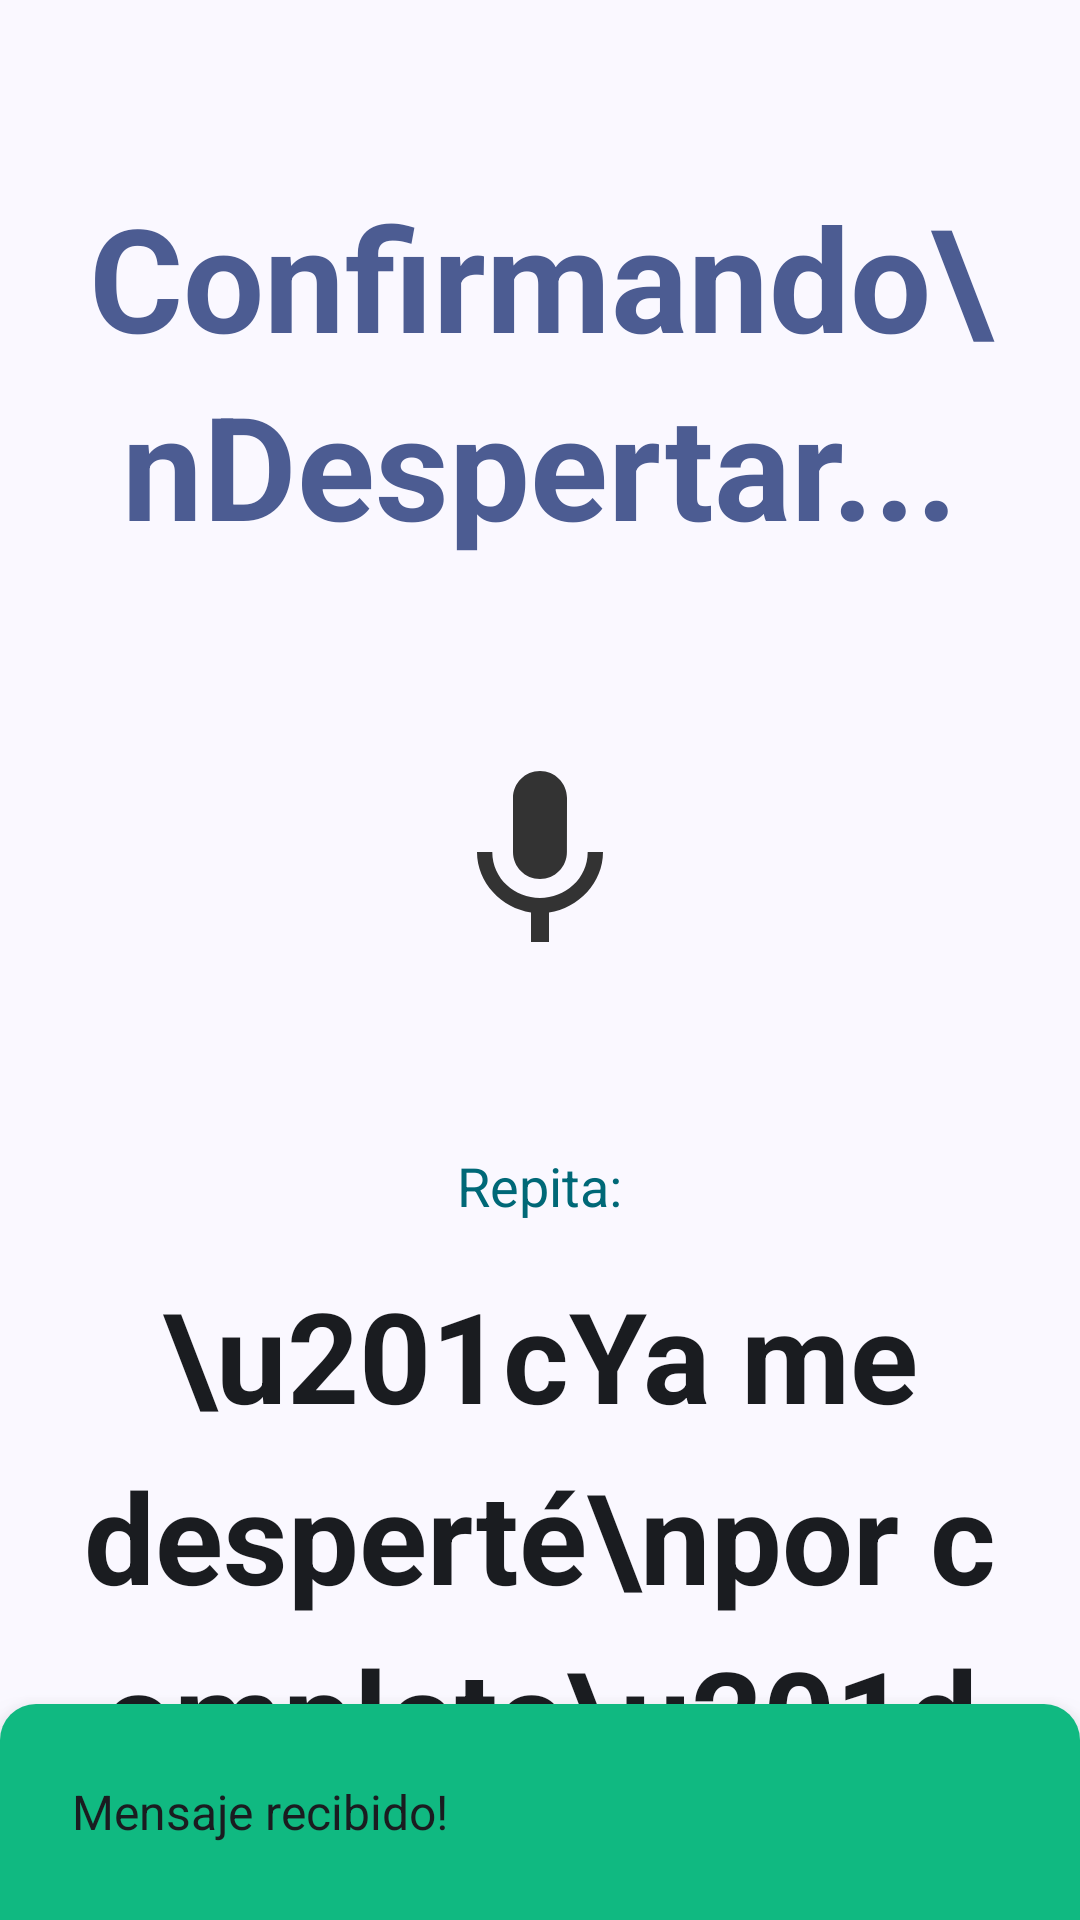

Named icons in this screenshot (1080×1920) and their bounding boxes, (x1=x1, y1=y1, x2=x2, y2=y2):
Micrófono: (x1=477, y1=771, x2=603, y2=942)
